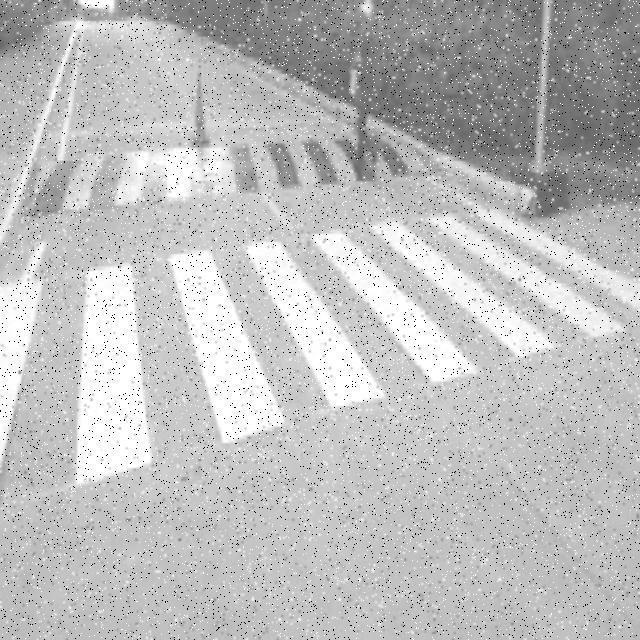crosswalk: (3, 206, 640, 497)
